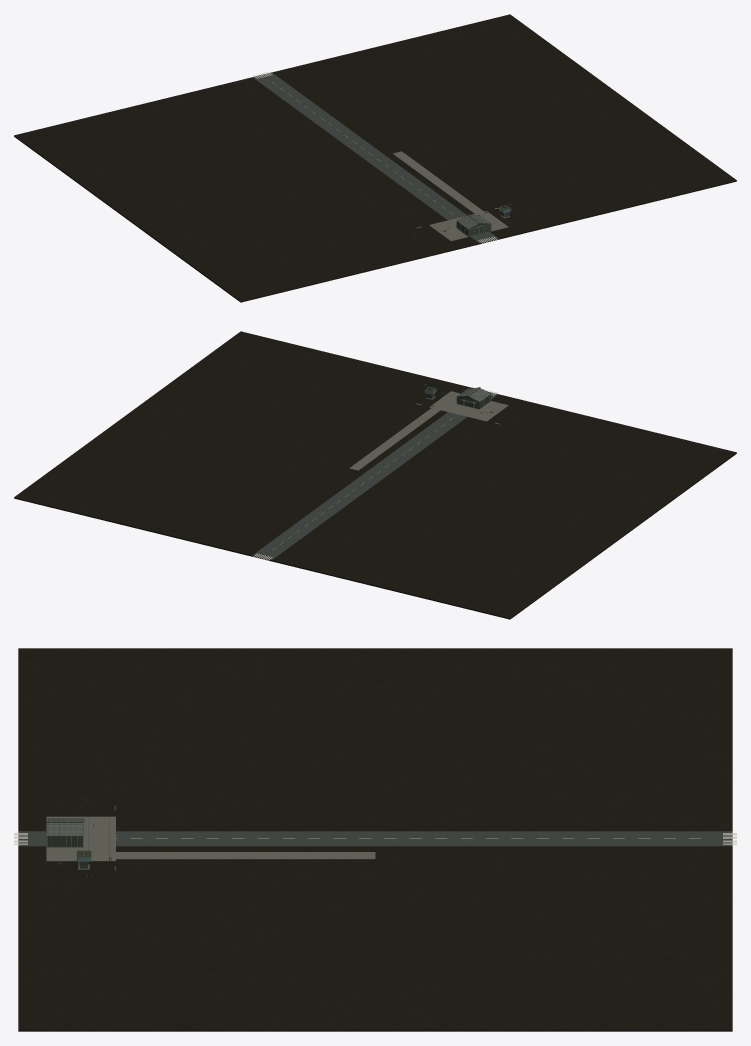
Rendered from Bloedjungle_Airfield_HQ_LOD1.glb.
3 views of the same model, one above another, from view 1: azimuth 30°, elevation 25°; view 2: azimuth 150°, elevation 25°; view 3: azimuth 270°, elevation 25° (orthographic). The views are drawn at different scales.
Parts seen in each view (by area): view 1: LOD1_Runway and Apron; view 2: LOD1_Runway and Apron, LOD1_Hangar HQ; view 3: LOD1_Runway and Apron, LOD1_Hangar HQ.
Boxes of the visible parts, left/top/right/bottom form: LOD1_Runway and Apron: left=14, top=14, right=736, bottom=302; LOD1_Runway and Apron: left=14, top=331, right=736, bottom=619; LOD1_Hangar HQ: left=456, top=386, right=496, bottom=409; LOD1_Runway and Apron: left=14, top=648, right=736, bottom=1031; LOD1_Hangar HQ: left=45, top=814, right=84, bottom=847.
Size of what is drawn, in the model's own units: 960 by 25.4 by 769.
14 materials, 5 textured.
